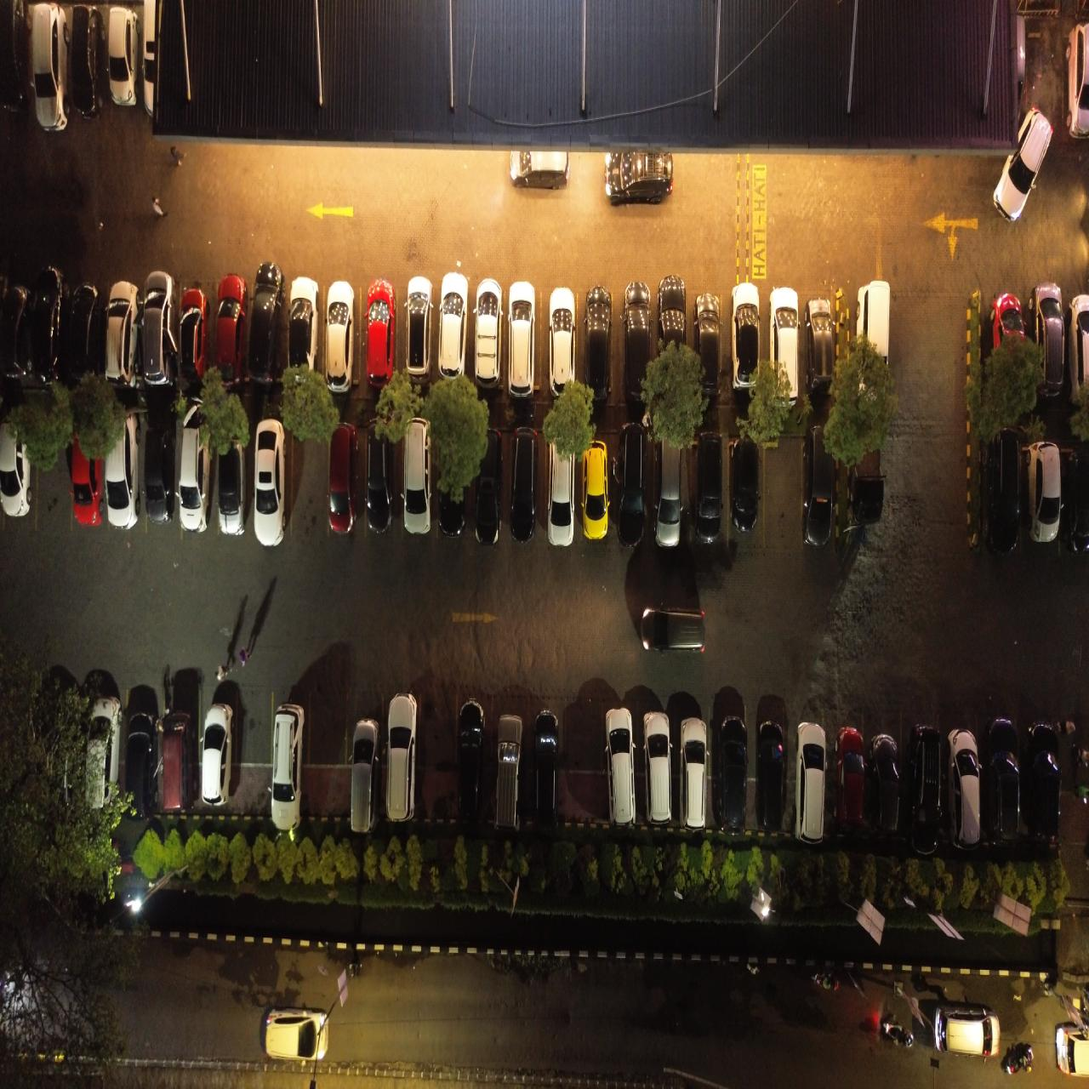cars: (1, 283, 32, 381), (291, 281, 322, 379), (323, 281, 354, 379), (582, 435, 613, 533), (398, 432, 429, 530), (437, 433, 468, 531), (2, 424, 33, 522), (71, 284, 102, 381), (103, 284, 134, 381), (143, 285, 174, 382), (397, 286, 428, 383), (438, 289, 469, 386), (470, 289, 501, 386), (580, 286, 611, 383), (656, 287, 687, 384), (764, 288, 795, 385), (803, 288, 834, 385), (727, 288, 758, 385), (731, 440, 762, 537), (469, 435, 500, 532), (508, 436, 539, 533), (221, 429, 252, 526), (253, 429, 284, 526), (182, 427, 213, 524), (76, 422, 107, 519), (108, 422, 139, 519), (218, 280, 248, 378), (250, 280, 280, 378), (806, 439, 836, 537), (693, 439, 723, 537), (617, 439, 647, 537), (364, 430, 394, 528), (151, 426, 181, 524), (34, 283, 64, 380), (175, 285, 205, 382), (365, 286, 395, 383), (509, 289, 539, 386), (541, 289, 571, 386), (613, 286, 643, 383), (688, 287, 718, 384), (656, 440, 686, 537), (544, 435, 574, 532), (332, 430, 362, 527)
empty: (293, 426, 330, 563), (764, 437, 801, 564), (38, 422, 72, 560)
